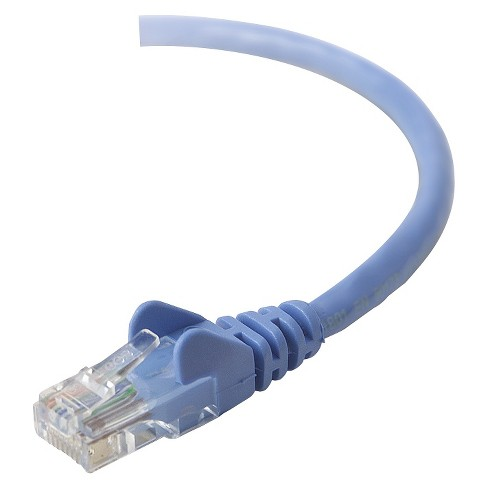Nonrec_Tangler: (19, 4, 464, 477)
